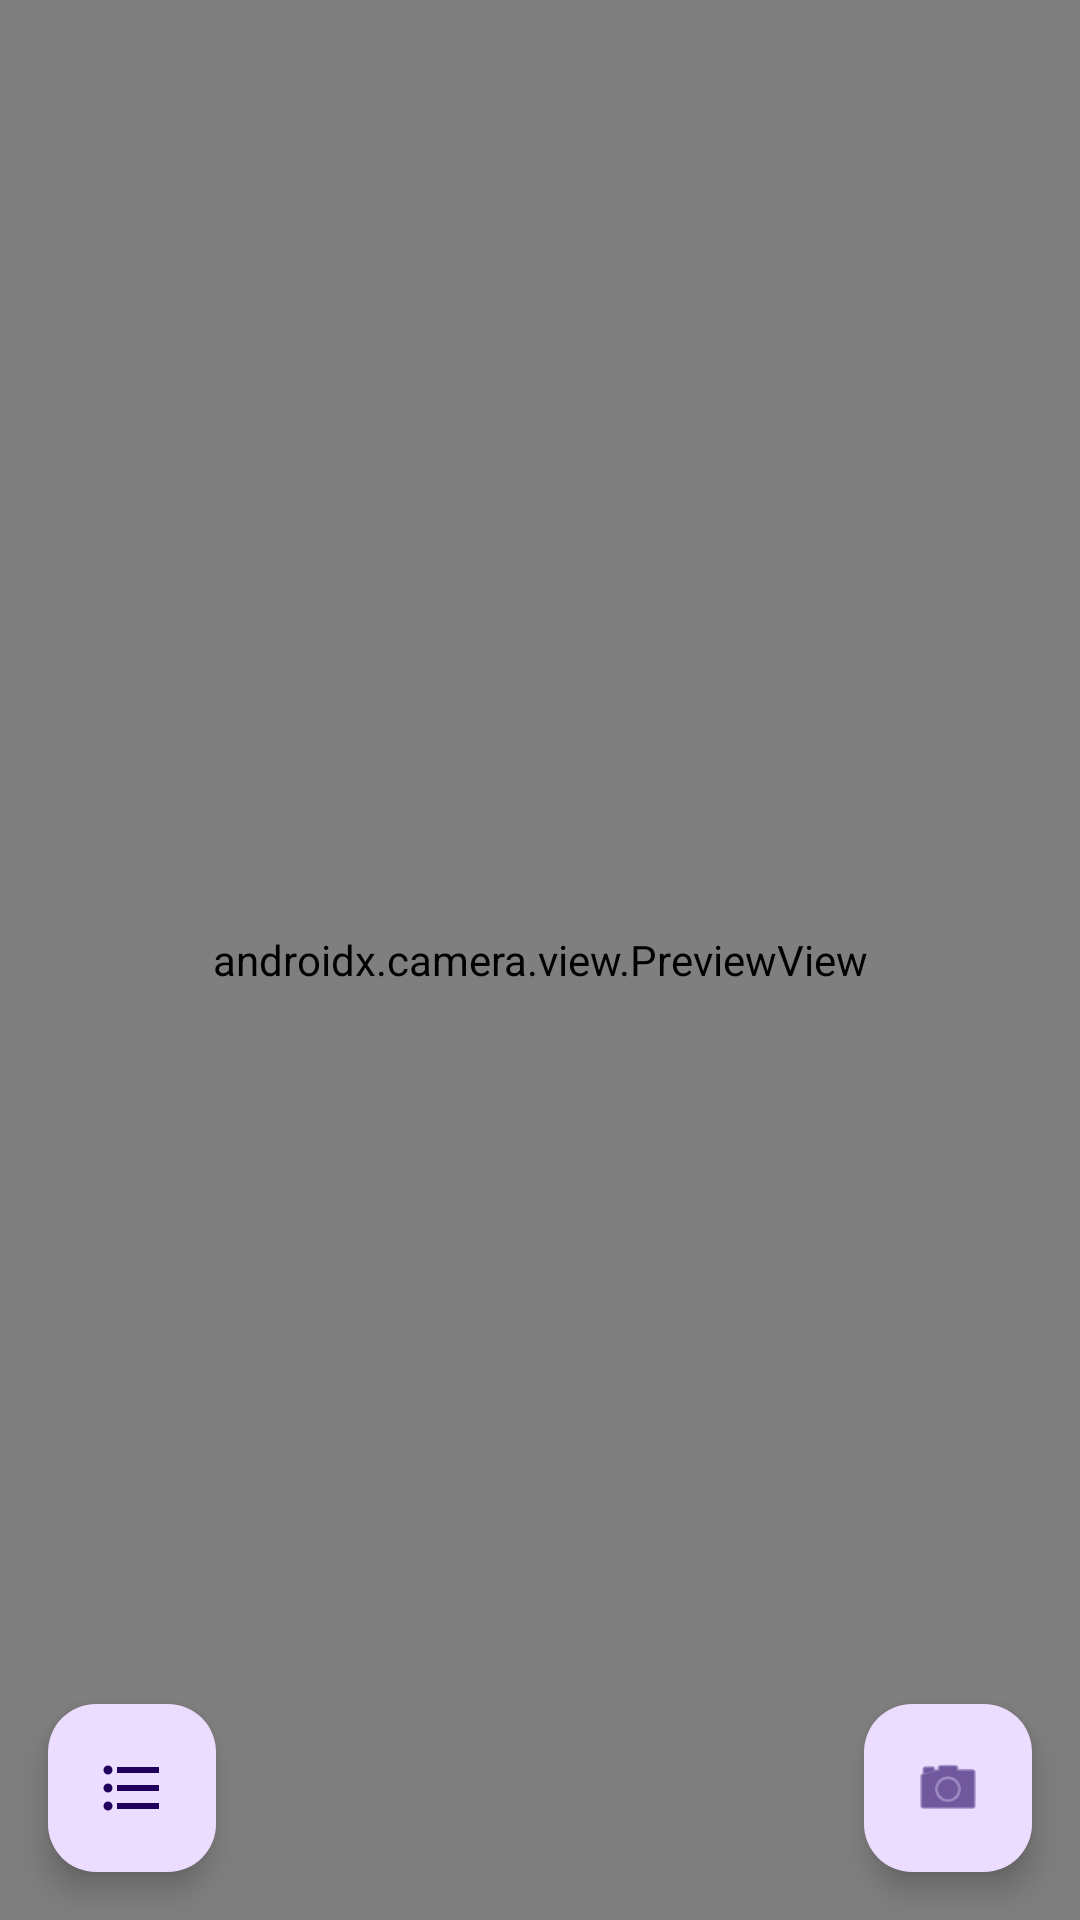

Icon click points for this 1080px×1920px phone screenshot, format point (x, y):
Take a snapshot: point (948, 1788)
View snapshots: point (132, 1788)
